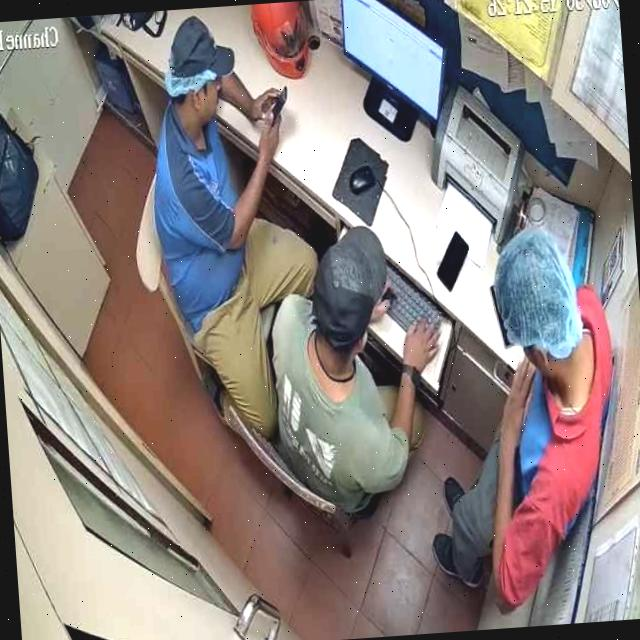helmet: (249, 1, 311, 79)
